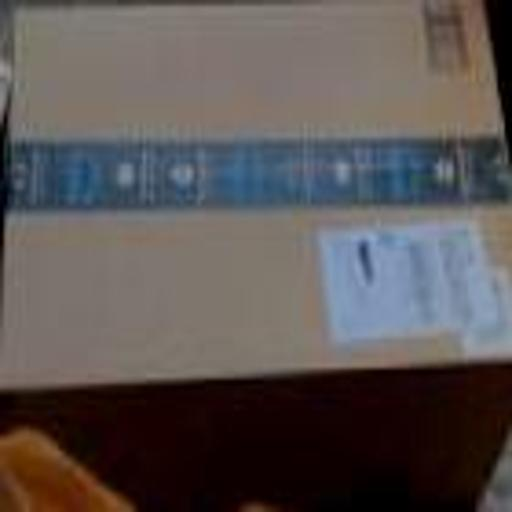Amazon: (0, 2, 488, 397)
